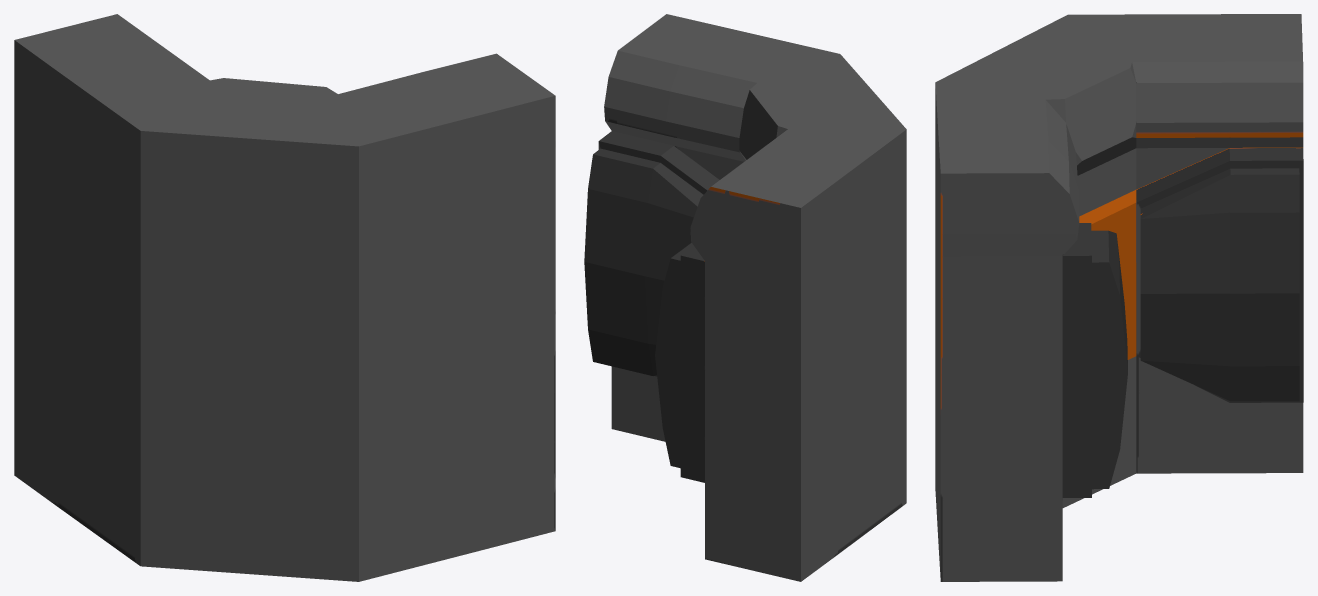
Rendered from Arena_corner(IMPROVED).fbx.
3 views of the same model, side by side, from view 1: azimuth 30°, elevation 25°; view 2: azimuth 150°, elevation 25°; view 3: azimuth 270°, elevation 25° (orthographic). The views are drawn at different scales.
Visible parts, largest first — view 1: corner; view 2: corner; view 3: corner.
Part boxes in pixels (<box>): corner: <box>14,14,555,581</box>; corner: <box>584,14,906,581</box>; corner: <box>935,14,1303,581</box>.
Size of the model in its own units: 618 by 737 by 602.
1 material, 1 textured.
